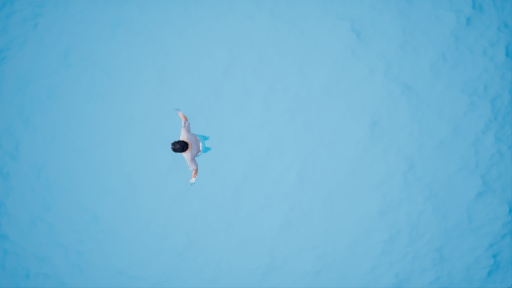person: (154, 104, 231, 190)
